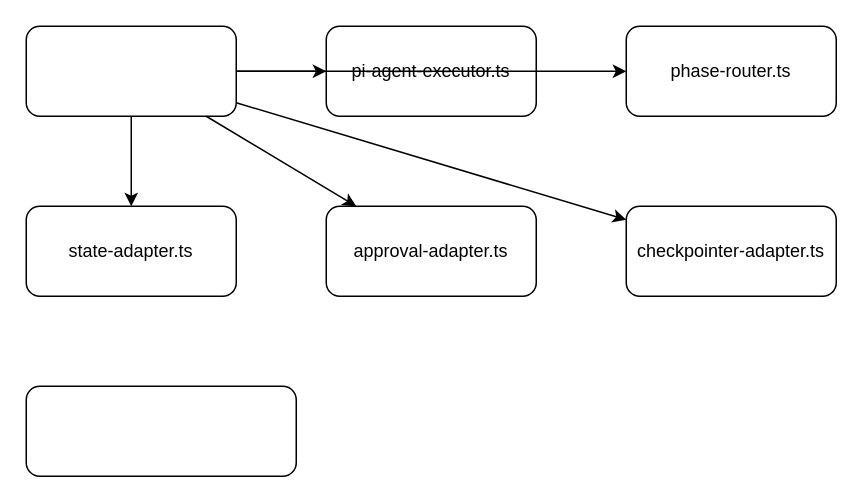
This 863x503 diagram has some shape labels left out. The centre of each missing label's shape, as x and y in pixels:
"pi-workflow.ts Orchestrator" belongs at point (130, 70).
"types/pi-workflow-state.ts" belongs at point (160, 430).
